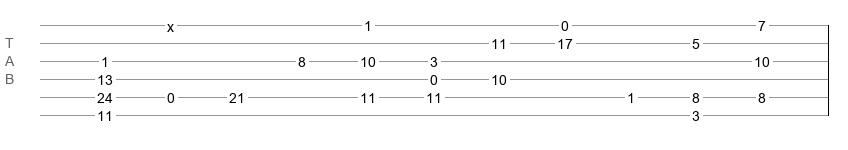0: (167, 90, 175, 100), (430, 72, 438, 82), (561, 18, 569, 28)
1: (101, 54, 109, 64), (364, 18, 372, 28), (627, 90, 635, 100)
10: (360, 54, 376, 64), (491, 72, 507, 82), (754, 54, 770, 64)
11: (97, 108, 113, 118), (360, 90, 376, 100), (426, 90, 442, 100), (491, 36, 507, 46)
13: (97, 72, 113, 82)
17: (557, 36, 573, 46)
21: (229, 90, 245, 100)
24: (97, 90, 113, 100)
3: (430, 54, 438, 64), (692, 108, 700, 118)
5: (692, 36, 700, 46)
7: (758, 18, 766, 28)
8: (298, 54, 306, 64), (692, 90, 700, 100), (758, 90, 766, 100)
x: (167, 19, 174, 27)
